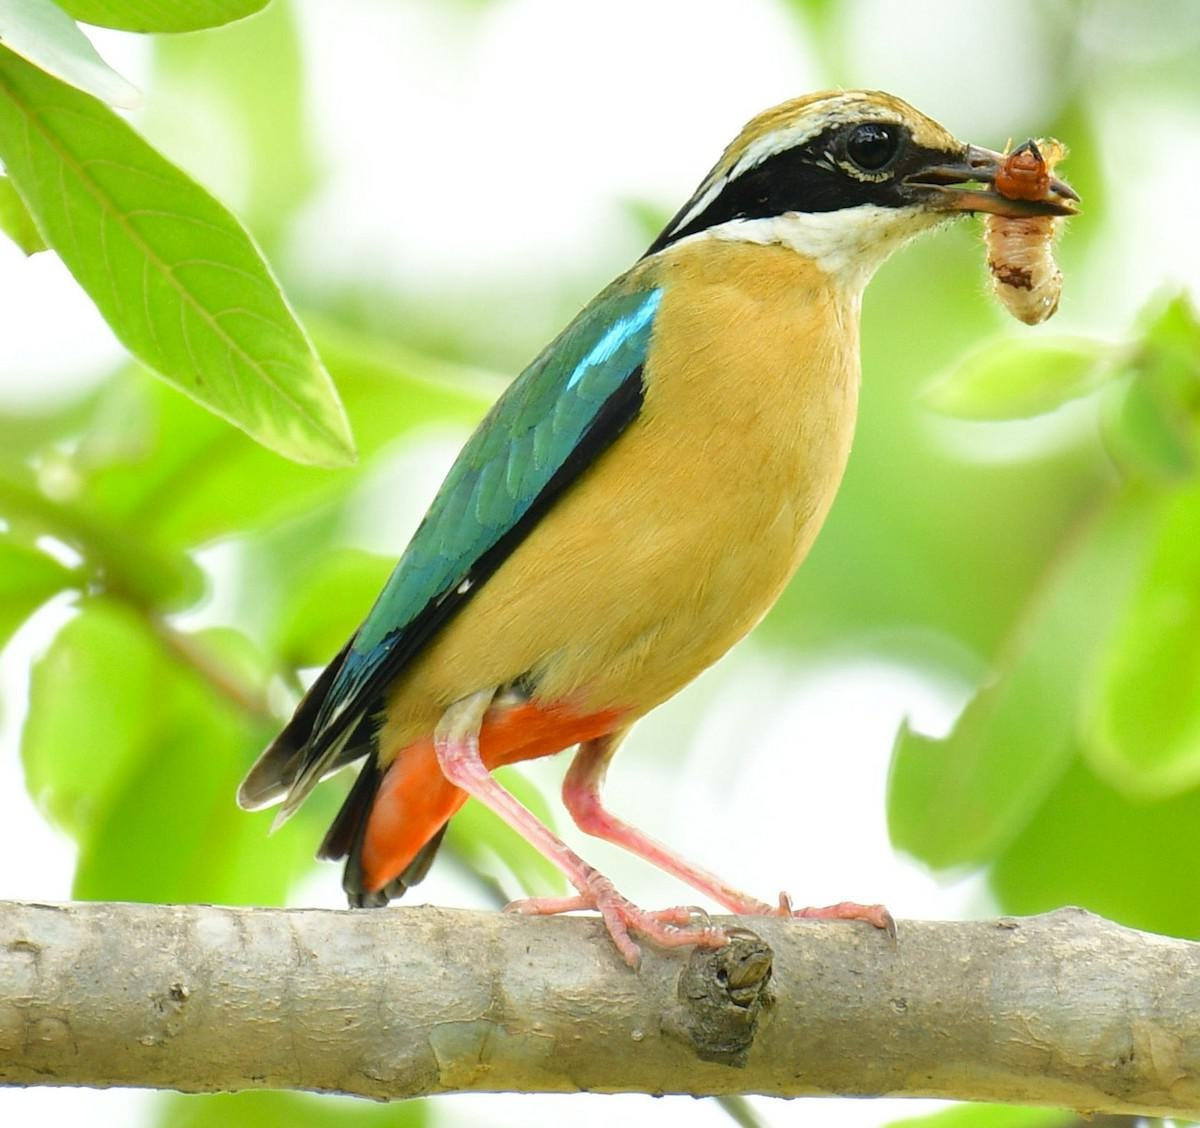pitta: (227, 52, 1092, 951)
